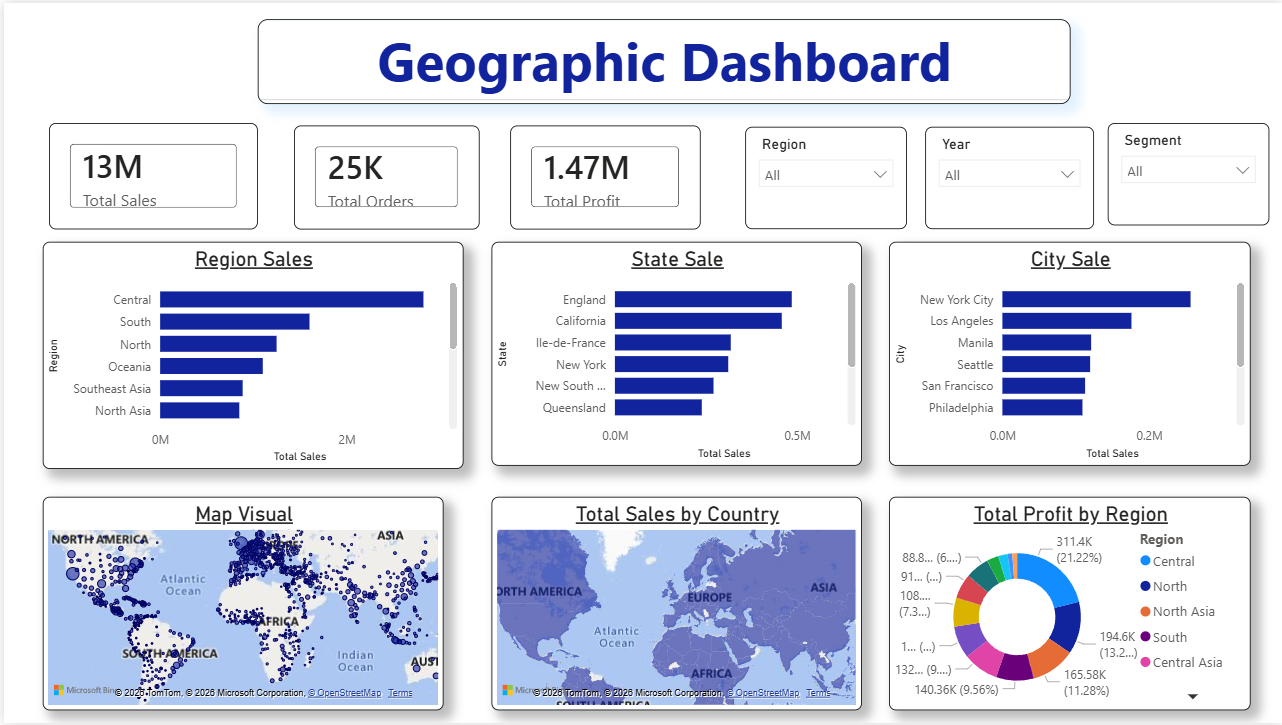

This screenshot's page, from the dashboard's own definition file:
{"tool":"powerbi","page":{"name":"GEOGRAPHIC DASHBOARD","canvas":[1280,720],"ordinal":4},"visuals":[{"type":"cardVisual","fields":{"Data":["superstore.Total Sales"]},"box":[45.2,119.8,209.1,106.4],"z":0},{"type":"cardVisual","fields":{"Data":["superstore.Total Orders"]},"box":[289.8,122.3,185.9,103.9],"z":1000},{"type":"cardVisual","fields":{"Data":["superstore.Total Profit"]},"box":[506.3,122.3,190.8,103.9],"z":2000},{"type":"clusteredBarChart","title":"Region Sales","fields":{"Category":["superstore.Region"],"Y":["superstore.Total Sales"]},"box":[39.1,238.5,420.7,227.4],"z":3000},{"type":"clusteredBarChart","title":" State Sale","fields":{"Category":["superstore.State"],"Y":["superstore.Total Sales"]},"box":[487.9,238.5,370.5,223.8],"z":4000},{"type":"clusteredBarChart","title":" City Sale","fields":{"Category":["superstore.City"],"Y":["superstore.Total Sales"]},"box":[885.3,238.5,362,223.8],"z":5000},{"type":"map","title":"Map Visual","fields":{"Category":["superstore.State"],"Size":["superstore.Total Sales"]},"box":[39.1,494,401.1,214],"z":6000},{"type":"filledMap","fields":{"Category":["superstore.Country"]},"box":[487.9,494,370.5,214],"z":7000},{"type":"donutChart","fields":{"Category":["superstore.Region"],"Y":["superstore.Total Profit"]},"box":[885.3,494,362,214],"z":8000},{"type":"slicer","fields":{"Values":["superstore.Region"]},"box":[741,123.5,161.4,102.7],"z":9000},{"type":"slicer","fields":{"Values":["Calender.Year"]},"box":[920.8,123.5,168.8,102.7],"z":10000},{"type":"slicer","fields":{"Values":["superstore.Segment"]},"box":[1104.2,119.8,161.4,102.7],"z":11000},{"type":"textbox","title":"Geographic Dashboard","box":[253.8,16.2,812.5,85],"z":12000}]}

Visuals, with their boxes in screenshot pixels (x1, y1, x2, y2), scaled from the page's 1280x720 canvas onto the 1282x725 screenshot:
cardVisual - superstore.Total Sales: Rect(45, 121, 255, 228)
cardVisual - superstore.Total Orders: Rect(290, 123, 476, 228)
cardVisual - superstore.Total Profit: Rect(507, 123, 698, 228)
"Region Sales" clusteredBarChart: Rect(39, 240, 461, 469)
" State Sale" clusteredBarChart: Rect(489, 240, 860, 466)
" City Sale" clusteredBarChart: Rect(887, 240, 1249, 466)
"Map Visual" map: Rect(39, 497, 441, 713)
filledMap - superstore.Country: Rect(489, 497, 860, 713)
donutChart - superstore.Region x superstore.Total Profit: Rect(887, 497, 1249, 713)
slicer - superstore.Region: Rect(742, 124, 904, 228)
slicer - Calender.Year: Rect(922, 124, 1091, 228)
slicer - superstore.Segment: Rect(1106, 121, 1268, 224)
"Geographic Dashboard" textbox: Rect(254, 16, 1068, 102)
